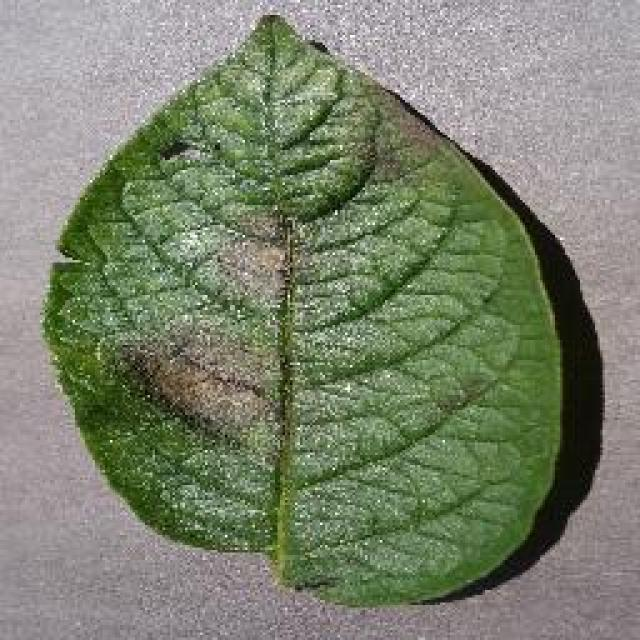late_blight: (38, 10, 570, 610)
